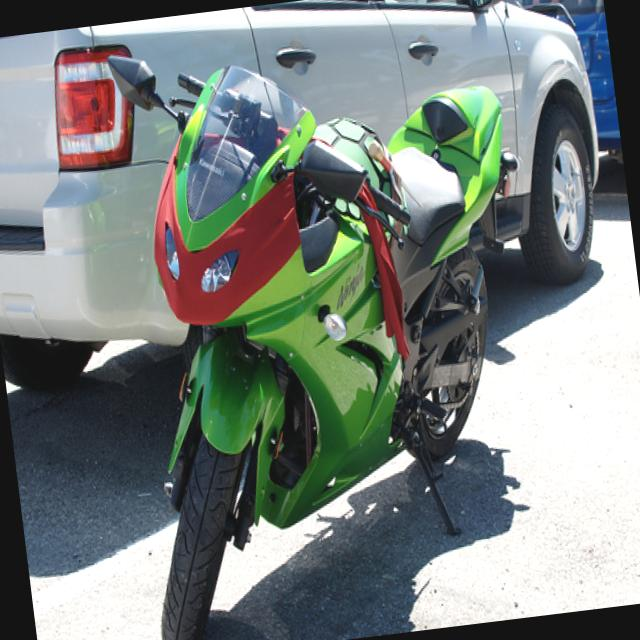Vehicle: (89, 5, 578, 640), (0, 0, 619, 393), (494, 0, 628, 218)
